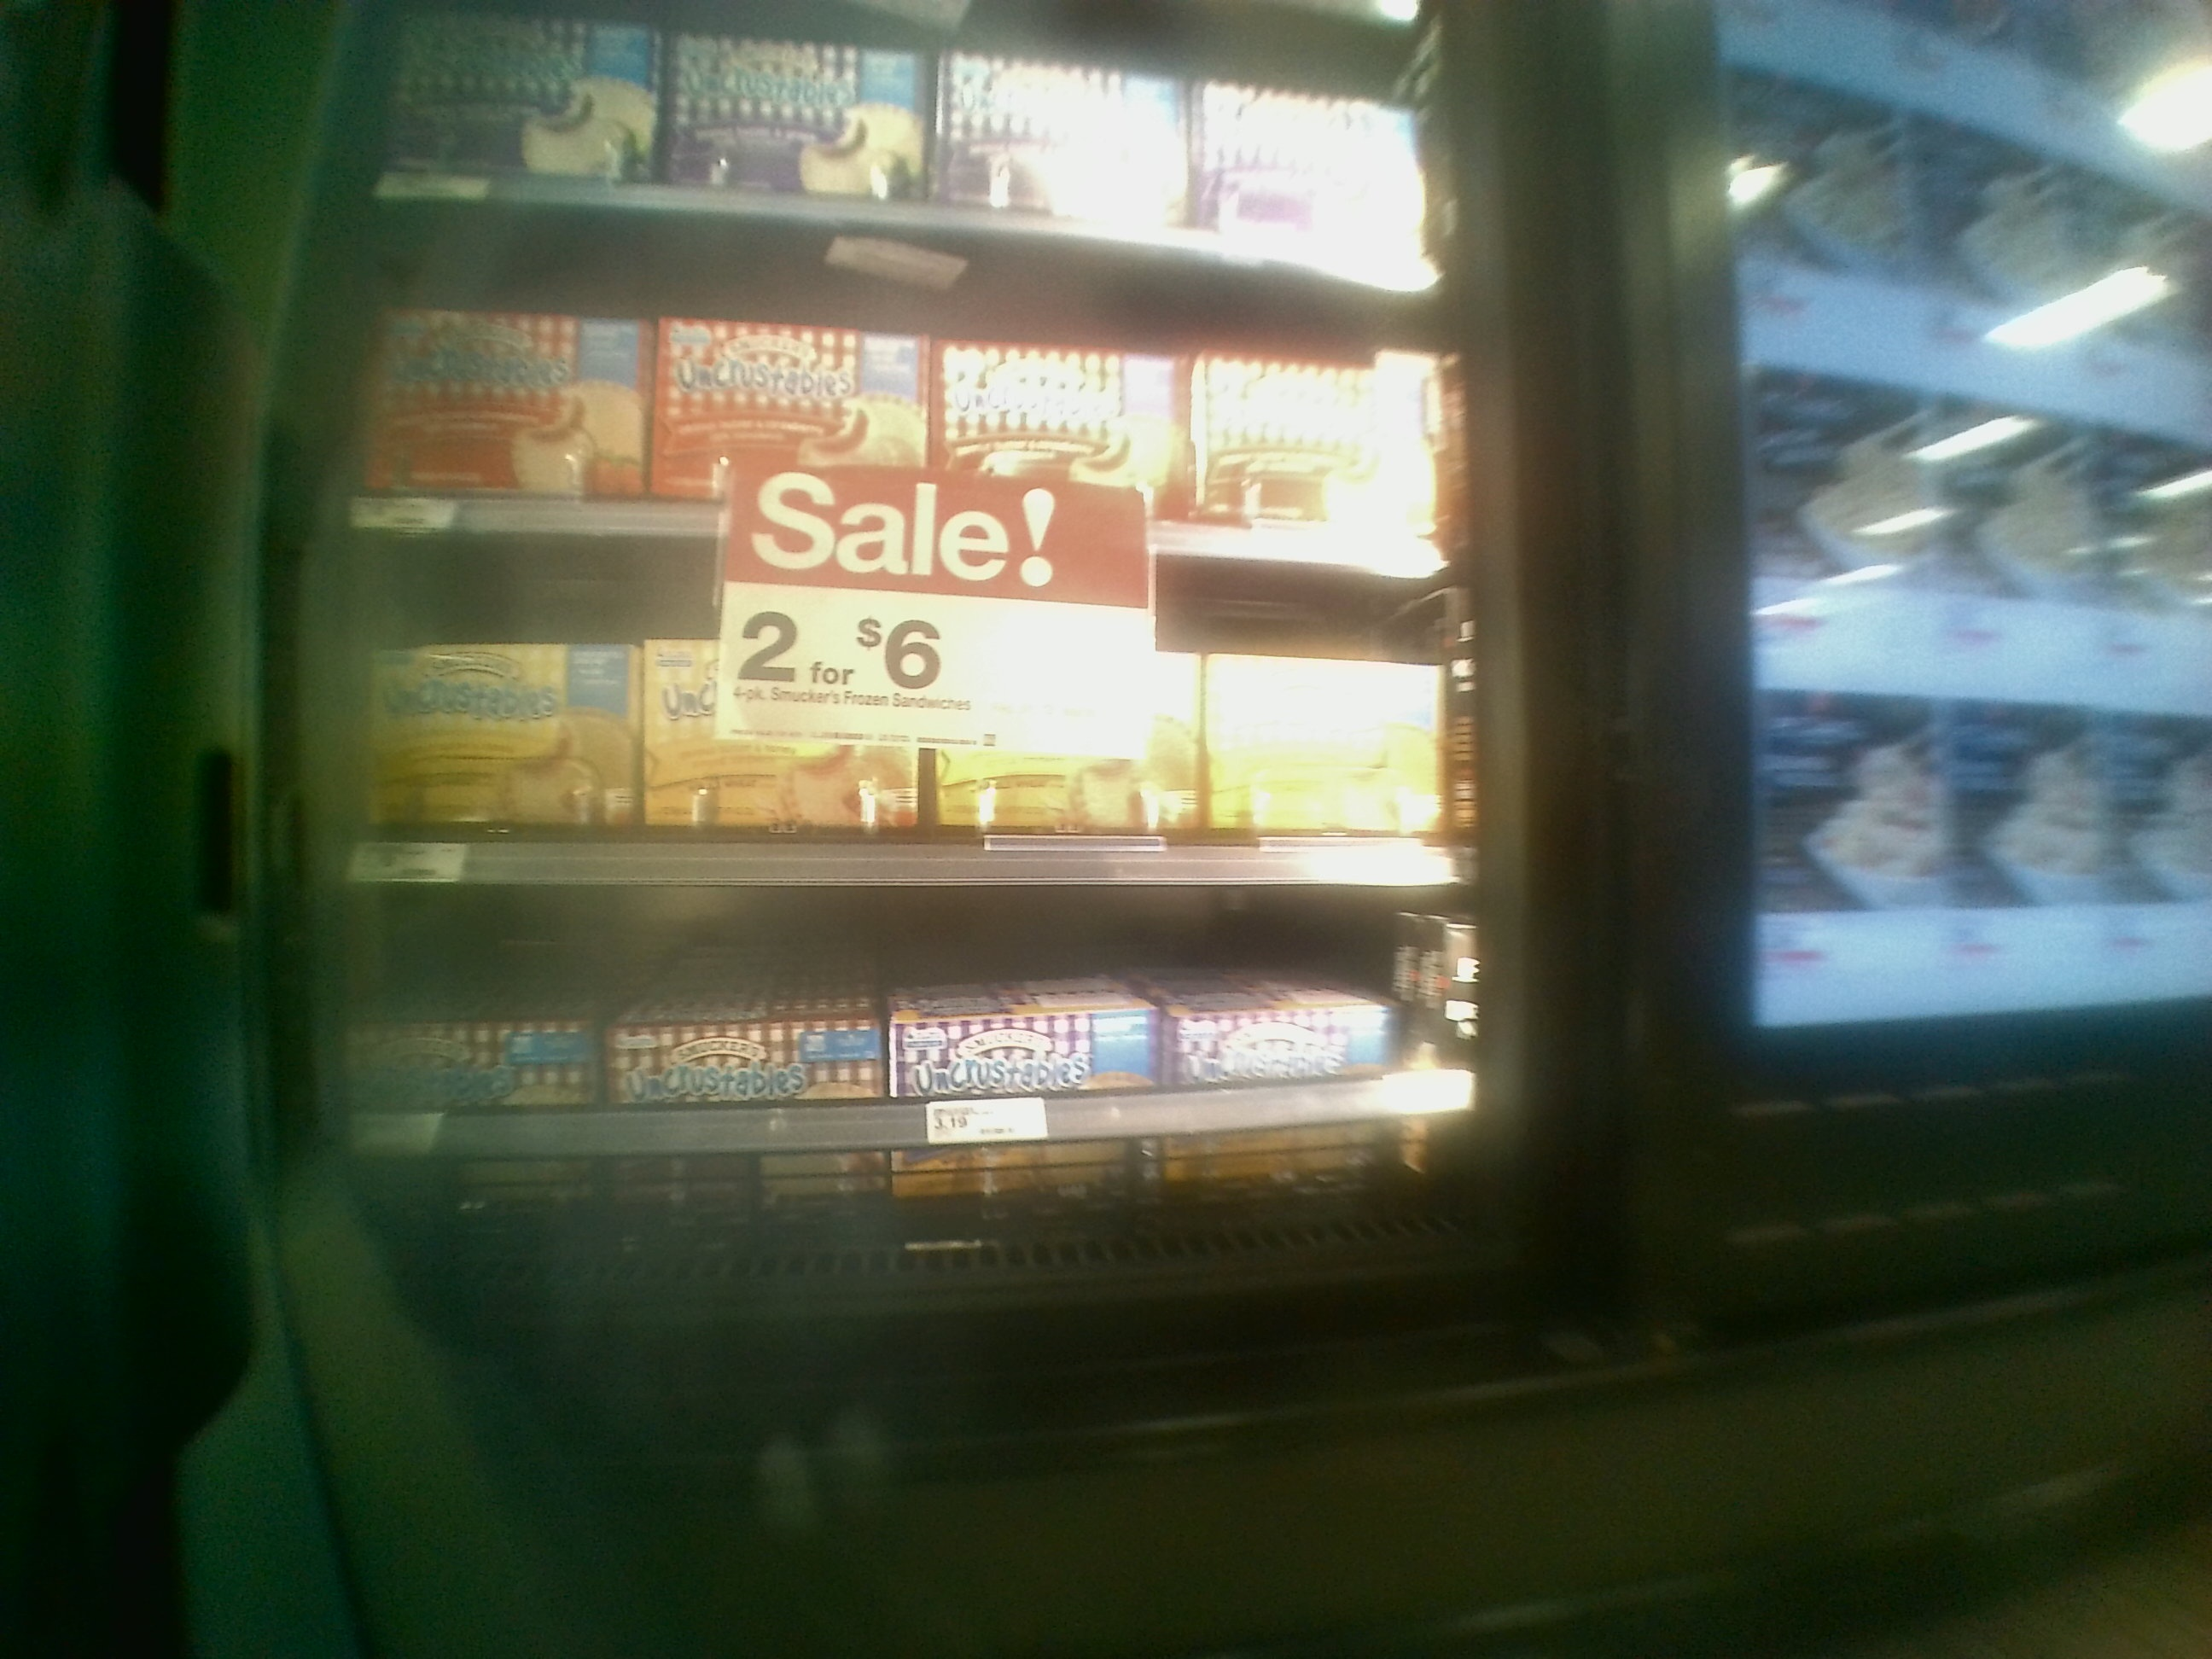shelf: (307, 892, 1493, 1286), (319, 209, 1486, 587), (317, 559, 1463, 894)
